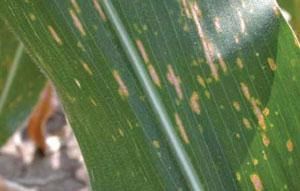Corn Gray leaf spot: (3, 1, 300, 188)
